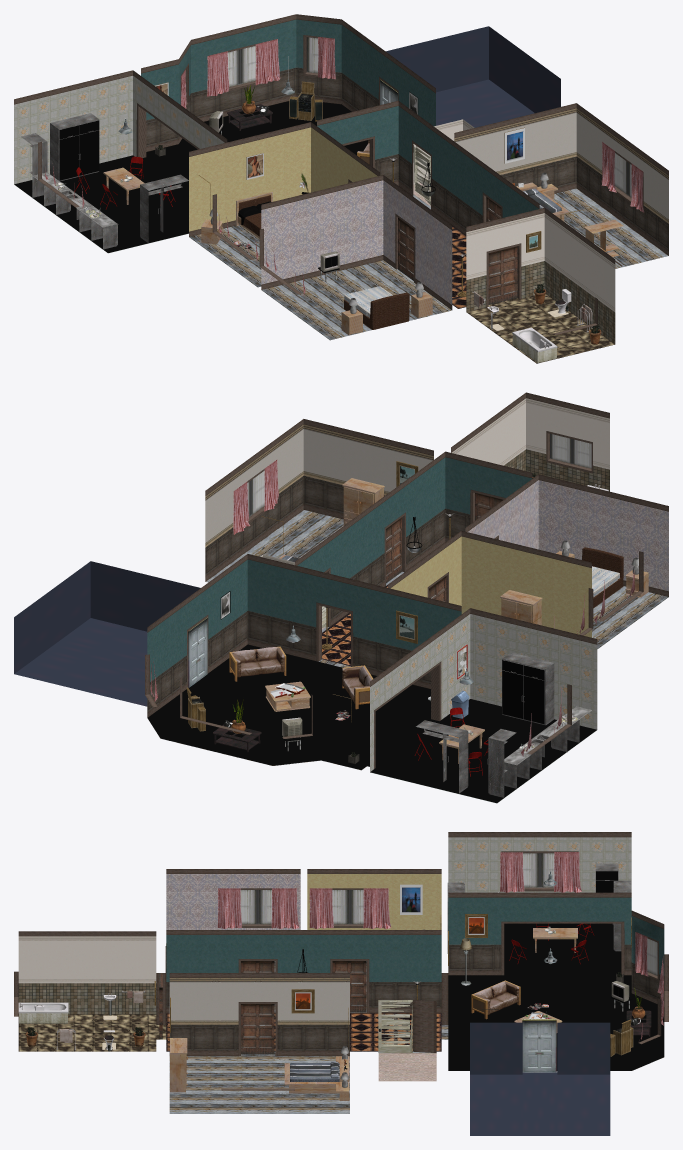
Rendered from house_interior.glb.
3 views of the same model, one above another, from view 1: azimuth 30°, elevation 25°; view 2: azimuth 150°, elevation 25°; view 3: azimuth 270°, elevation 25° (orthographic). The views are drawn at different scales.
Visible parts, largest first — view 1: FrontSide_87, FrontSide_60, FrontSide_23, BackSide_3, FrontSide_64, FrontSide_79, FrontSide_119, FrontSide_34, FrontSide_46, FrontSide_42, FrontSide_86, FrontSide_73 (+18 smaller); view 2: BackSide_3, FrontSide_60, FrontSide_87, FrontSide_64, FrontSide_46, FrontSide_119, FrontSide_23, FrontSide_34, FrontSide_42, FrontSide_86, FrontSide_73, FrontSide_79 (+13 smaller); view 3: FrontSide_60, BackSide_3, FrontSide_64, FrontSide_87, FrontSide_79, FrontSide_119, FrontSide_42, FrontSide_88, FrontSide_86, FrontSide_46, FrontSide_23, FrontSide_36 (+18 smaller).
Part boxes in pixels (x1,y1,x2,y2): FrontSide_87: (14,14,668,334); FrontSide_60: (141,19,538,217); FrontSide_23: (261,180,452,304); BackSide_3: (14,101,463,273); FrontSide_64: (386,26,560,127); FrontSide_79: (189,188,668,340); FrontSide_119: (146,67,668,250); FrontSide_34: (189,127,377,231); FrontSide_46: (14,75,224,184); FrontSide_42: (454,108,668,223); FrontSide_86: (413,119,615,312); FrontSide_73: (21,113,188,249); BackSide_3: (147,516,596,803); FrontSide_60: (147,457,532,681); FrontSide_87: (145,392,668,768); FrontSide_64: (14,561,200,706); FrontSide_46: (370,614,597,771); FrontSide_119: (147,475,470,712); FrontSide_23: (467,480,668,591); FrontSide_34: (390,536,591,637); FrontSide_42: (205,424,433,547); FrontSide_86: (260,398,609,625); FrontSide_73: (416,652,579,797); FrontSide_79: (148,510,668,770); FrontSide_60: (166,897,664,981); BackSide_3: (297,871,664,1070); FrontSide_64: (470,1022,610,1135); FrontSide_87: (14,832,668,1090); FrontSide_79: (169,961,663,1113); FrontSide_119: (166,944,664,1050); FrontSide_42: (169,978,349,1024); FrontSide_88: (217,852,663,1040); FrontSide_86: (18,936,156,983); FrontSide_46: (448,837,631,892); FrontSide_23: (166,874,300,929); FrontSide_36: (18,1014,166,1051).
Size of the model in its own units: 22.98 by 4.81 by 28.56.
Materials: 100 (99 with a texture image).
